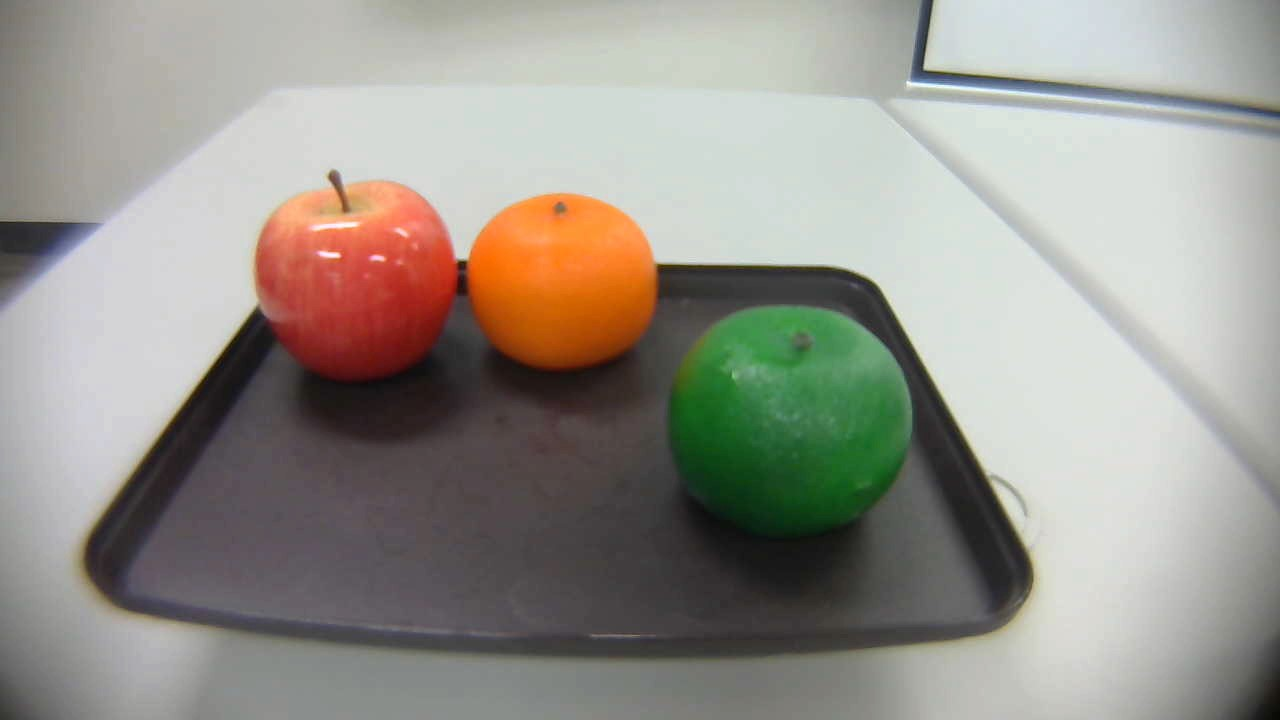green orange: (670, 295, 917, 550)
orange: (465, 188, 664, 379)
red apple: (238, 171, 468, 390)
